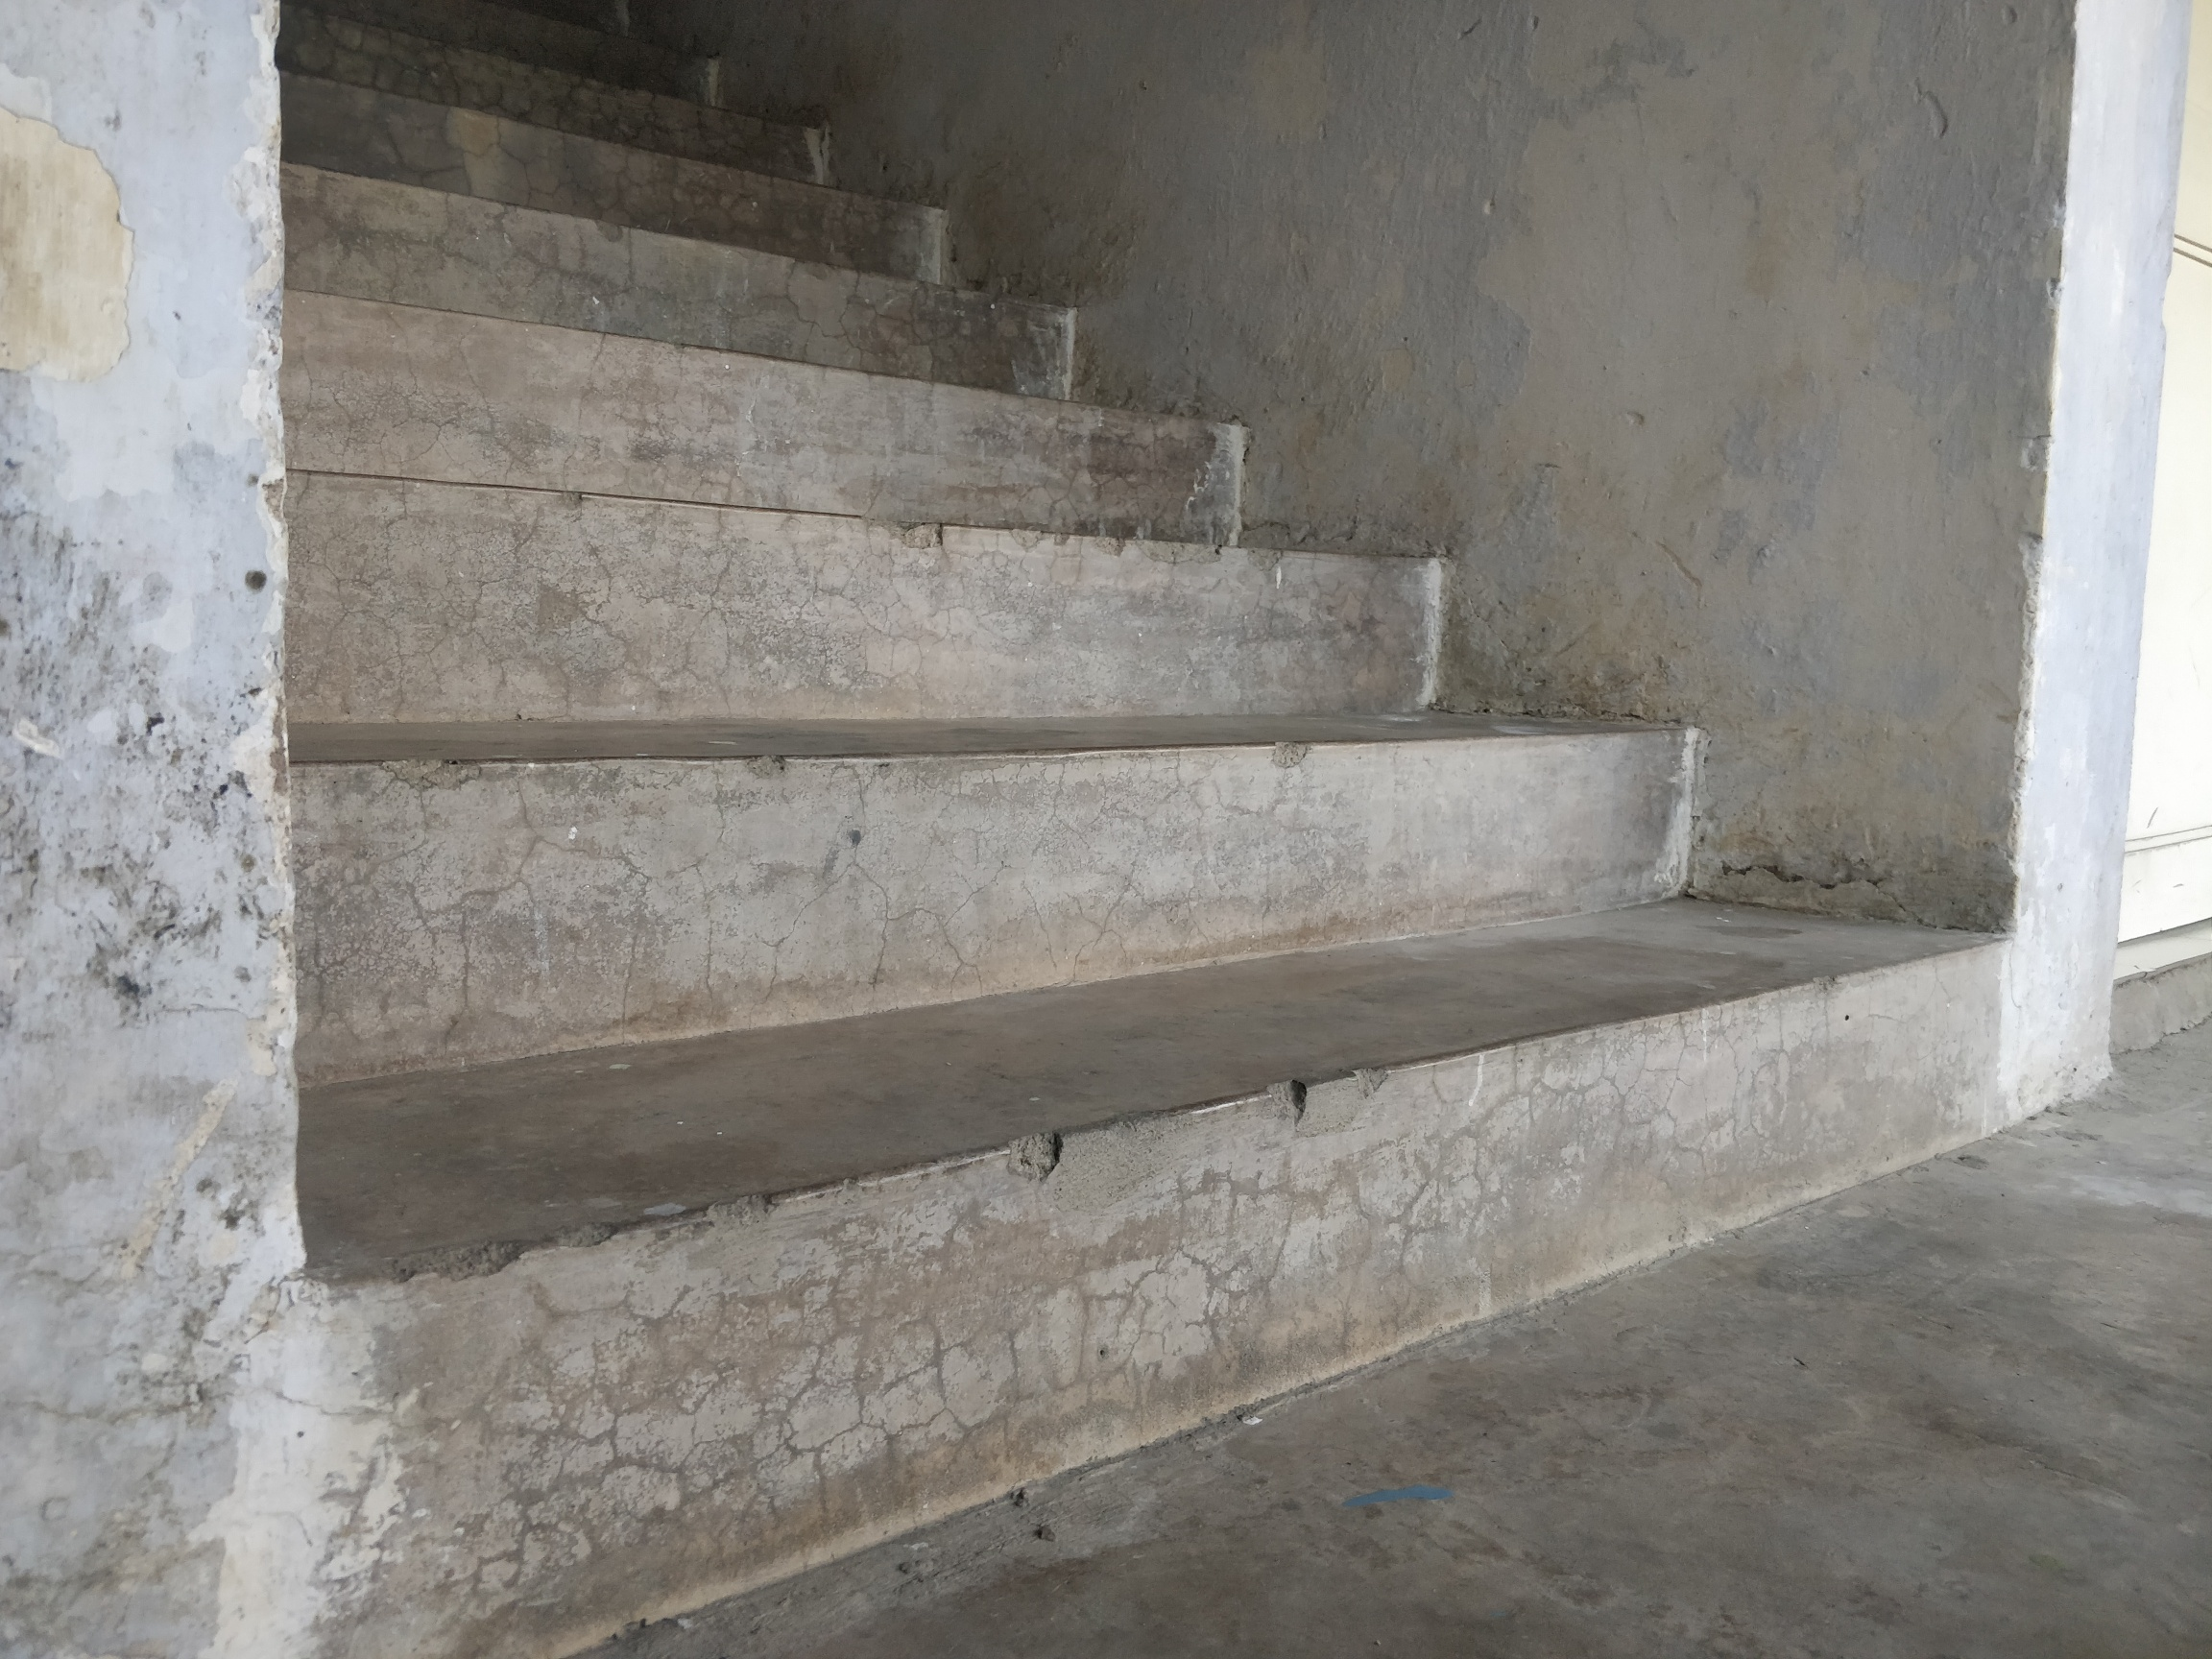stairs_up: (298, 42, 1977, 1513)
